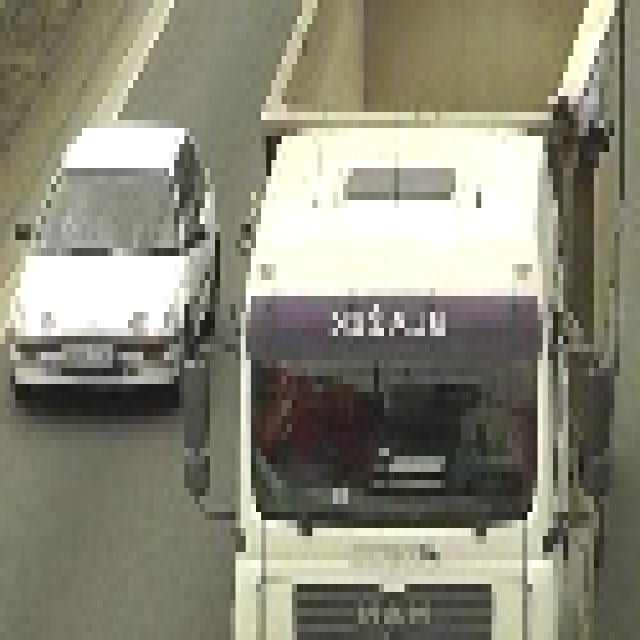SED: (10, 120, 220, 416)
TRUCK: (220, 0, 620, 640)
